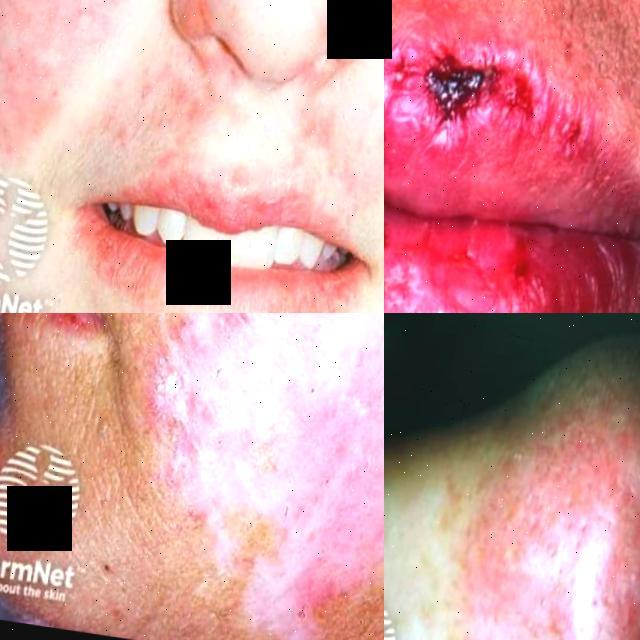lupus-detected: (115, 313, 384, 640), (384, 0, 640, 313), (396, 313, 640, 640), (0, 0, 247, 294)
